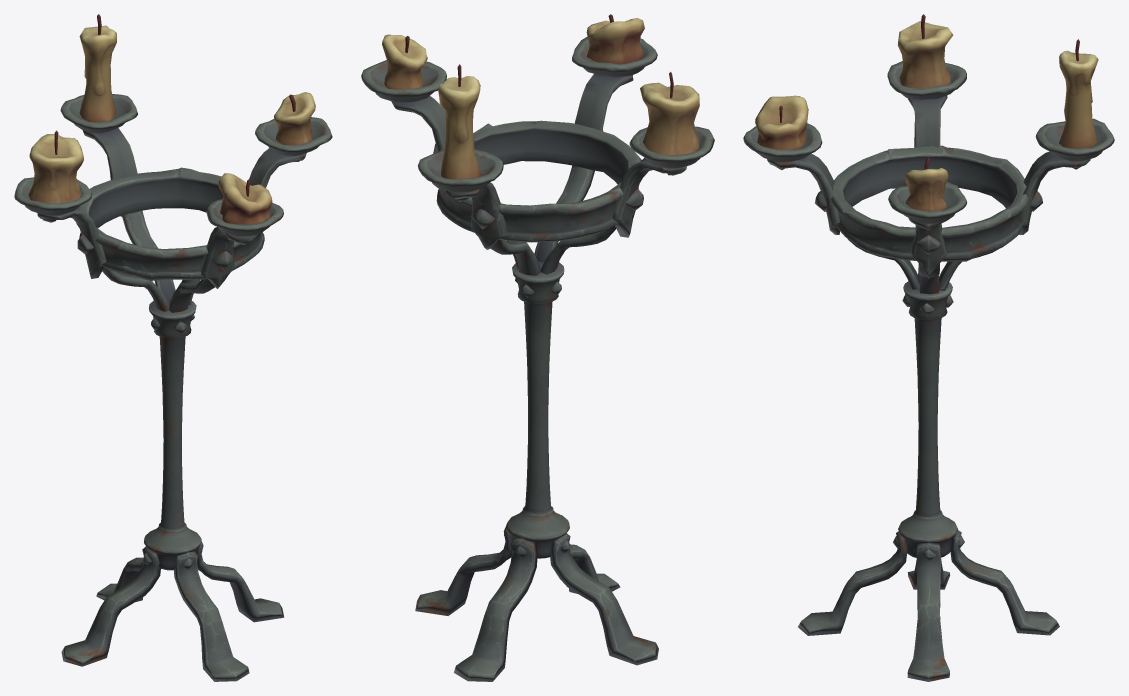
Rendered from SM_FW01_Candelabrum_01.fbx.
3 renders of one model, left to right at view 1: azimuth 30°, elevation 25°; view 2: azimuth 150°, elevation 25°; view 3: azimuth 270°, elevation 25°, orthographic. The views are drawn at different scales.
Visible parts, largest first — view 1: SM_FW01_Candelabrum_01_LOD0; view 2: SM_FW01_Candelabrum_01_LOD0; view 3: SM_FW01_Candelabrum_01_LOD0.
Part boxes in pixels (x1=…): SM_FW01_Candelabrum_01_LOD0: x1=14, y1=14, x2=332, y2=681; SM_FW01_Candelabrum_01_LOD0: x1=361, y1=14, x2=714, y2=681; SM_FW01_Candelabrum_01_LOD0: x1=743, y1=14, x2=1114, y2=681.
Size of what is drawn, in the model's own units: 1.03 by 1.8 by 1.03.
